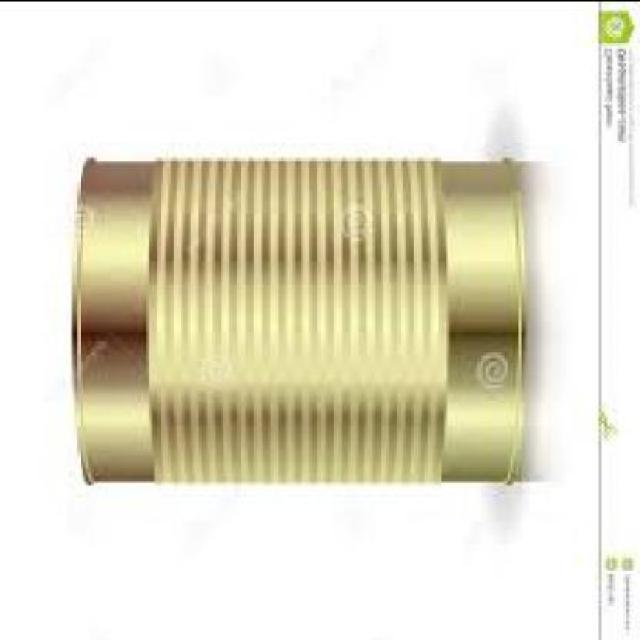METAL: (68, 154, 527, 483)
